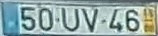0: (37, 7, 53, 32)
4: (108, 8, 123, 32)
5: (19, 6, 35, 32)
6: (124, 8, 139, 32)
U: (60, 7, 79, 32)
V: (80, 7, 100, 33)
